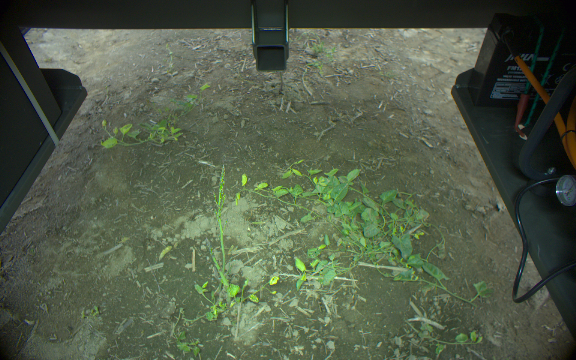aspa: (203, 237, 230, 294)
